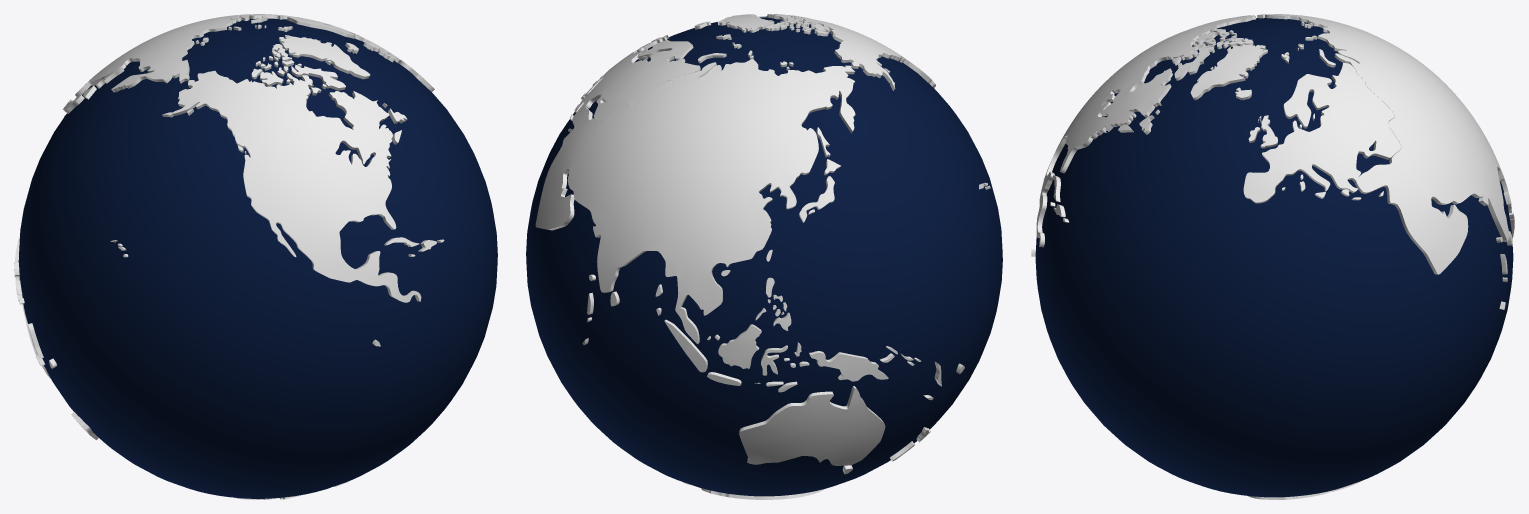
File: world .fbx
3 views of the same model, side by side, from view 1: azimuth 30°, elevation 25°; view 2: azimuth 150°, elevation 25°; view 3: azimuth 270°, elevation 25° (orthographic).
Parts seen in each view (by area): view 1: Sphere.001, Earth_Globe_Mesh.011, Earth_Globe_Mesh.007, Earth_Globe_Mesh.013, Earth_Globe_Mesh.009; view 2: Sphere.001, Earth_Globe_Mesh.007, Earth_Globe_Mesh.009, Earth_Globe_Mesh.013, Earth_Globe_Mesh.011; view 3: Sphere.001, Earth_Globe_Mesh.007, Earth_Globe_Mesh.013, Earth_Globe_Mesh.011.
Part boxes in pixels (x1,y1,x2,y2): Sphere.001: (18,18,497,498); Earth_Globe_Mesh.011: (162,35,444,346); Earth_Globe_Mesh.007: (63,14,266,257); Earth_Globe_Mesh.013: (118,14,434,249); Earth_Globe_Mesh.009: (14,237,98,439); Sphere.001: (526,17,1002,496); Earth_Globe_Mesh.007: (535,42,990,392); Earth_Globe_Mesh.009: (739,346,964,474); Earth_Globe_Mesh.013: (569,21,987,186); Earth_Globe_Mesh.011: (717,14,935,90); Sphere.001: (1035,18,1513,497); Earth_Globe_Mesh.007: (1257,14,1514,309); Earth_Globe_Mesh.013: (1235,49,1400,203); Earth_Globe_Mesh.011: (1031,15,1267,256).
Bounding box in the file's own units: 1 × 1.02 × 1.01.
